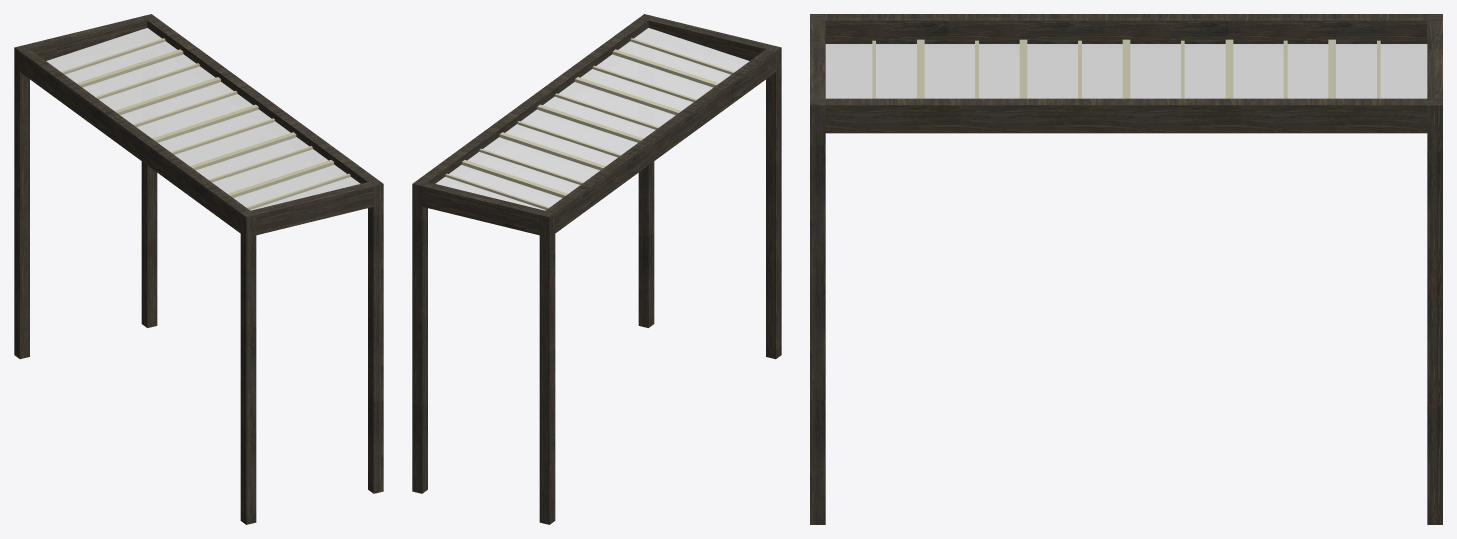
File: hyr-single_h30-w13-l40_blackebony.fbx
The picture shows the model from 3 angles, left to right: view 1: azimuth 30°, elevation 25°; view 2: azimuth 150°, elevation 25°; view 3: azimuth 270°, elevation 25°; orthographic projection. The views are drawn at different scales.
Visible parts, largest first — view 1: hyr-single_h30-w13-l40_blackebony; view 2: hyr-single_h30-w13-l40_blackebony; view 3: hyr-single_h30-w13-l40_blackebony.
Part boxes in pixels (x1=…): hyr-single_h30-w13-l40_blackebony: x1=14, y1=14, x2=383, y2=524; hyr-single_h30-w13-l40_blackebony: x1=412, y1=14, x2=781, y2=524; hyr-single_h30-w13-l40_blackebony: x1=810, y1=14, x2=1442, y2=524.
Size of the model in its own units: 140 by 300 by 410.
3 materials, 2 textured.
